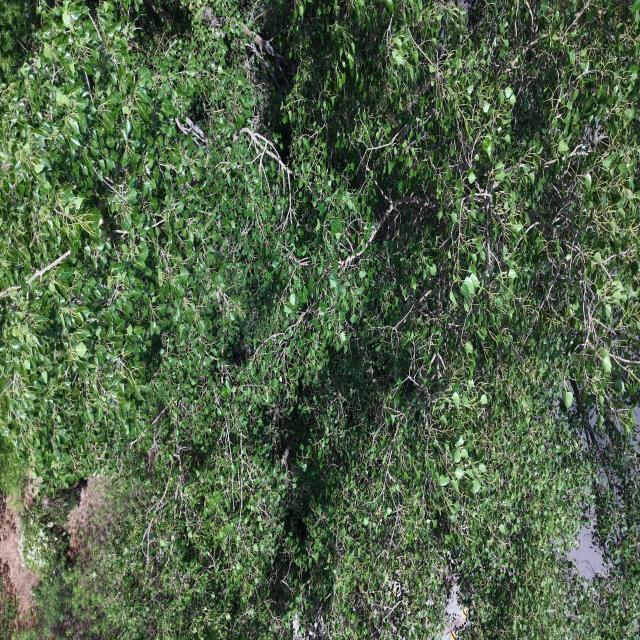DRY_AREA: (0, 480, 39, 638), (0, 500, 38, 621), (67, 476, 108, 561)
VEGETATION_TREE: (0, 0, 639, 638)
